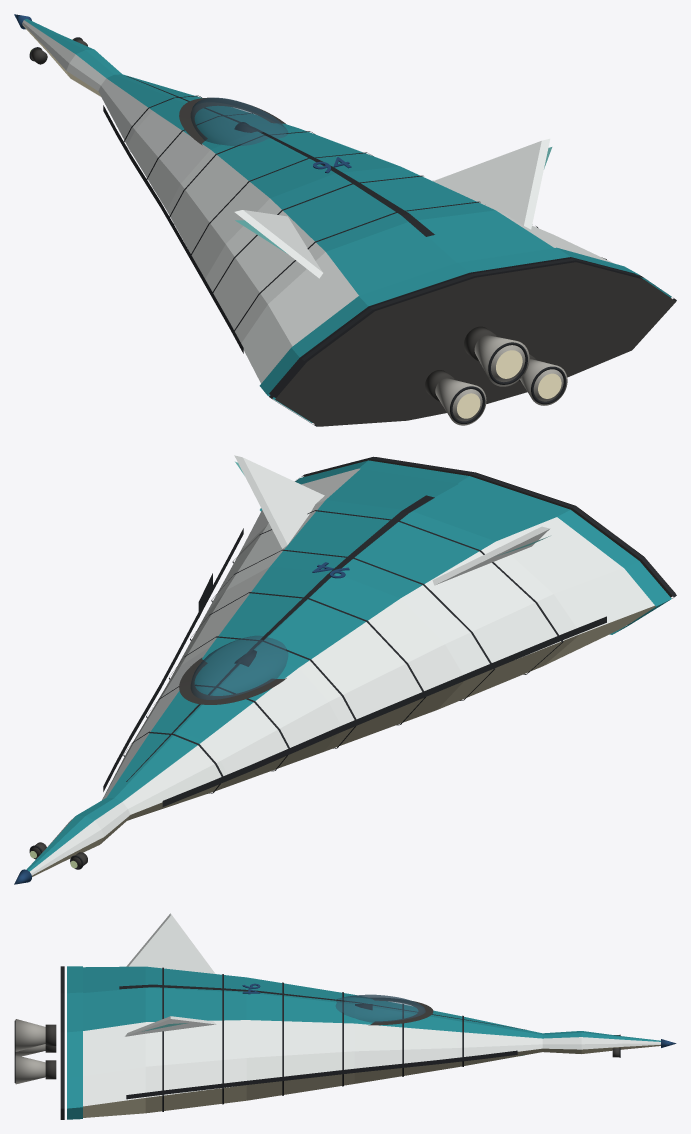
File: Ship_PyramidLifter_741828.glb
The picture shows the model from 3 angles, top to bottom: view 1: azimuth 30°, elevation 25°; view 2: azimuth 150°, elevation 25°; view 3: azimuth 270°, elevation 25°; orthographic projection. The views are drawn at different scales.
Visible parts, largest first — view 1: Fuselage_MainPyramidalLiftingBody, EngineDeck_AftFacetedDarkMountPlate, EngineDeck_AftOuterArmorCollar, TailFin_Right_ShortCantedStabilizer, CanopyGlass_LowInsetSmokedDome, Nose_FacetedRamNeedle, TailFin_Left_ShortCantedStabilizer, EngineEmitter, EngineDeck_AftDarkCompressionSeal, CanopyFrame_LowInsetArmoredOvalRim, EngineBell_CenterUpper_BurnishedNozzle, HullLongitudinalSeam_DorsalRidgeDarkLine (+3 smaller); view 2: Fuselage_MainPyramidalLiftingBody, EngineDeck_AftOuterArmorCollar, CanopyGlass_LowInsetSmokedDome, TailFin_Right_ShortCantedStabilizer, Nose_FacetedRamNeedle, SideChinePanel_Left_LongDarkArmorJoint, HullLongitudinalSeam_DorsalRidgeDarkLine, EngineDeck_AftDarkCompressionSeal, CanopyFrame_LowInsetArmoredOvalRim, EngineDeck_AftFacetedDarkMountPlate, TailFin_Left_ShortCantedStabilizer, SideChinePanel_Right_LongDarkArmorJoint (+1 smaller); view 3: Fuselage_MainPyramidalLiftingBody, TailFin_Left_ShortCantedStabilizer, EngineDeck_AftOuterArmorCollar, Nose_FacetedRamNeedle, CanopyGlass_LowInsetSmokedDome, SideChinePanel_Right_LongDarkArmorJoint, TailFin_Right_ShortCantedStabilizer, EngineBell_CenterUpper_BurnishedNozzle, HullLongitudinalSeam_DorsalRidgeDarkLine, EngineDeck_AftDarkCompressionSeal, EngineBell_RightLower_BurnishedNozzle, CanopyFrame_LowInsetArmoredOvalRim.
Boxes of the visible parts, x1,y1,x2,y2 form: Fuselage_MainPyramidalLiftingBody: (98,74,642,397); EngineDeck_AftFacetedDarkMountPlate: (275,262,676,426); EngineDeck_AftOuterArmorCollar: (259,247,671,422); TailFin_Right_ShortCantedStabilizer: (433,138,550,229); CanopyGlass_LowInsetSmokedDome: (190,97,288,146); Nose_FacetedRamNeedle: (22,19,121,96); TailFin_Left_ShortCantedStabilizer: (234,210,322,278); EngineEmitter: (457,350,561,418); EngineDeck_AftDarkCompressionSeal: (269,258,676,426); CanopyFrame_LowInsetArmoredOvalRim: (179,97,285,145); EngineBell_CenterUpper_BurnishedNozzle: (474,335,529,386); HullLongitudinalSeam_DorsalRidgeDarkLine: (126,76,434,236); Fuselage_MainPyramidalLiftingBody: (102,468,655,820); EngineDeck_AftOuterArmorCollar: (260,460,671,634); CanopyGlass_LowInsetSmokedDome: (190,635,288,699); TailFin_Right_ShortCantedStabilizer: (234,455,324,548); Nose_FacetedRamNeedle: (26,798,130,876); SideChinePanel_Left_LongDarkArmorJoint: (162,616,606,806); HullLongitudinalSeam_DorsalRidgeDarkLine: (126,495,434,781); EngineDeck_AftDarkCompressionSeal: (298,456,676,598); CanopyFrame_LowInsetArmoredOvalRim: (179,657,286,704); EngineDeck_AftFacetedDarkMountPlate: (303,457,675,597); TailFin_Left_ShortCantedStabilizer: (432,526,549,585); SideChinePanel_Right_LongDarkArmorJoint: (103,528,243,791); Fuselage_MainPyramidalLiftingBody: (83,966,542,1117); TailFin_Left_ShortCantedStabilizer: (126,913,215,973); EngineDeck_AftOuterArmorCollar: (67,966,82,1119); Nose_FacetedRamNeedle: (542,1031,660,1053); CanopyGlass_LowInsetSmokedDome: (335,994,425,1022); SideChinePanel_Right_LongDarkArmorJoint: (126,1050,517,1099); TailFin_Right_ShortCantedStabilizer: (125,1016,216,1036); EngineBell_CenterUpper_BurnishedNozzle: (15,1019,45,1051); HullLongitudinalSeam_DorsalRidgeDarkLine: (119,984,526,1029); EngineDeck_AftDarkCompressionSeal: (60,966,64,1119); EngineBell_RightLower_BurnishedNozzle: (15,1055,45,1084); CanopyFrame_LowInsetArmoredOvalRim: (368,998,433,1025).
Bounding box in the file's own units: 3.46 × 1.47 × 7.32.
